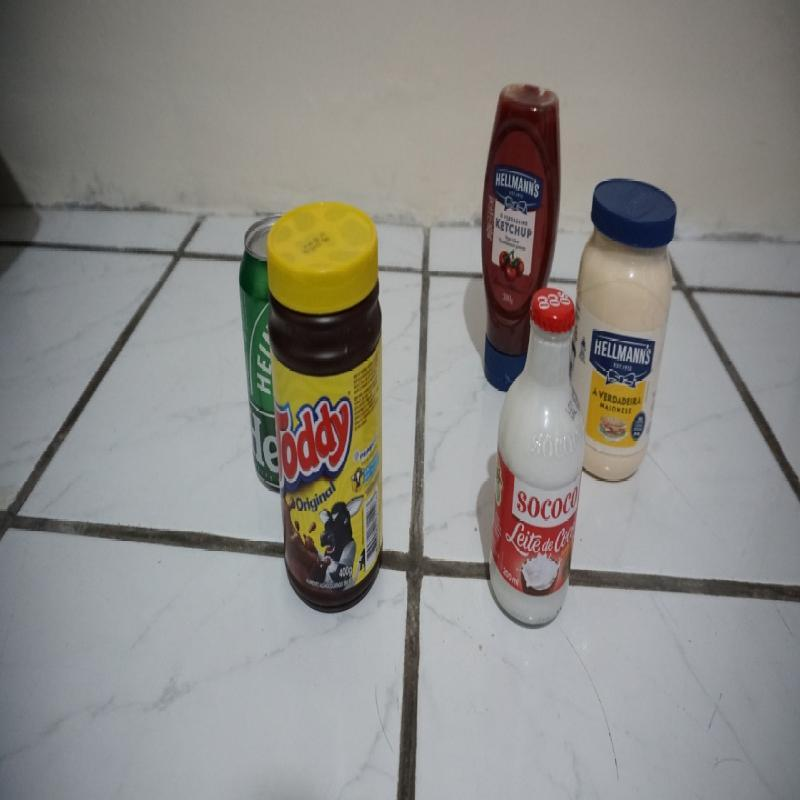Beer can: (234, 216, 270, 480)
Chocolate Powder: (267, 203, 382, 605)
Coconut Milk: (492, 290, 582, 622)
Ketchup: (481, 73, 561, 281)
Mayonnaise: (581, 176, 676, 482)
